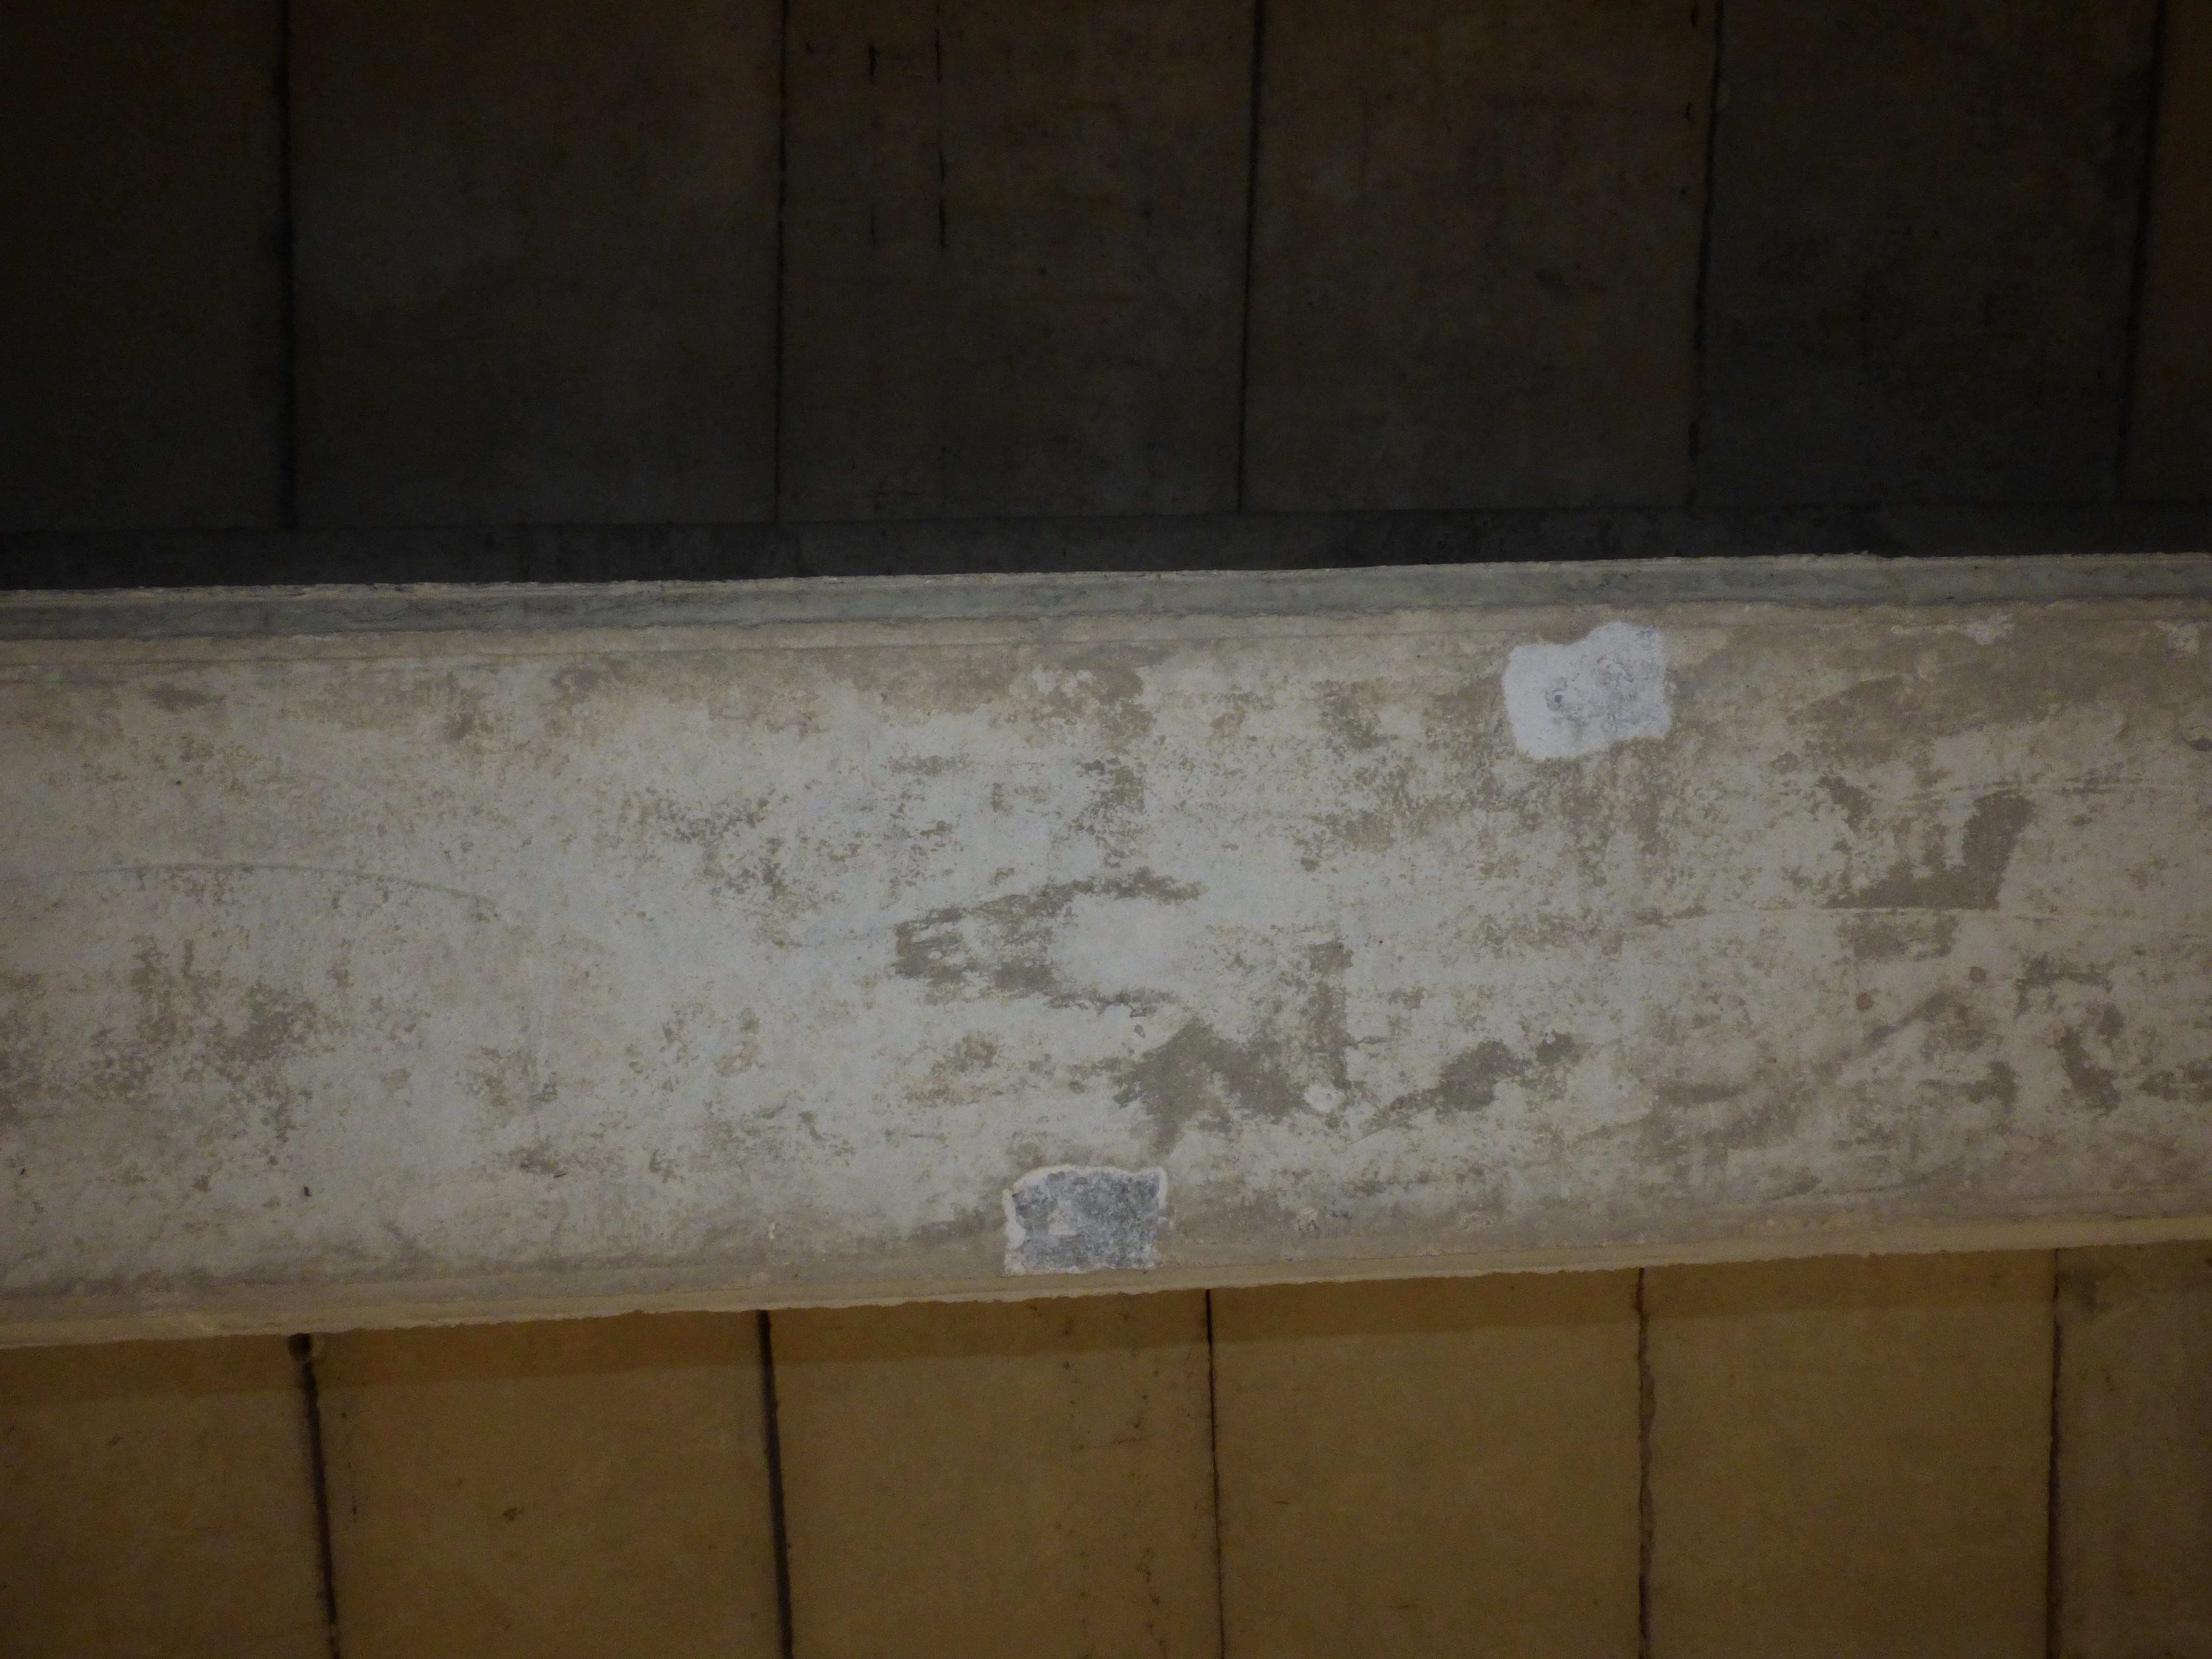Spalling: (1501, 620, 1672, 763), (1000, 1162, 1170, 1276)
